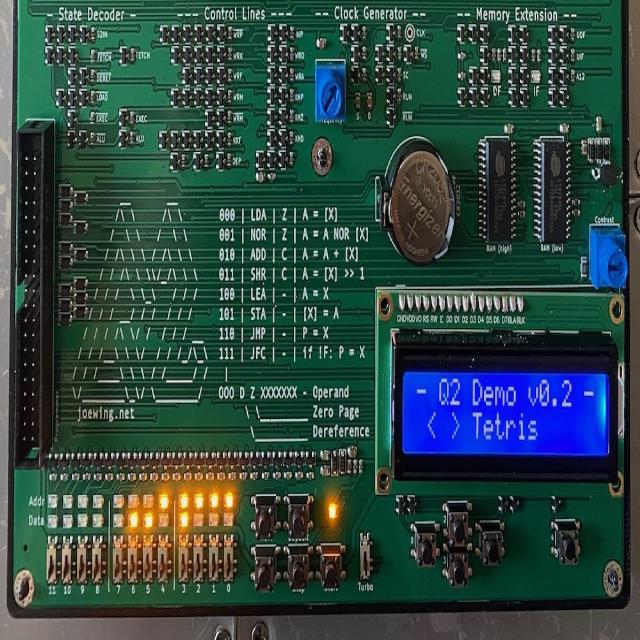2235: (479, 522, 508, 575), (554, 520, 579, 567), (253, 551, 278, 596), (318, 548, 342, 594), (446, 503, 470, 549), (253, 497, 277, 541), (412, 527, 438, 567), (287, 551, 311, 594), (445, 550, 471, 589), (288, 498, 310, 544), (206, 536, 220, 594), (359, 534, 374, 586), (157, 537, 170, 592), (75, 539, 89, 586), (192, 538, 205, 588), (127, 538, 139, 589), (111, 539, 123, 588), (178, 537, 189, 590), (223, 538, 235, 585), (142, 538, 154, 584), (46, 540, 57, 588), (90, 538, 101, 586), (61, 540, 70, 587)
4439: (249, 450, 261, 470), (404, 44, 413, 70), (237, 449, 249, 468), (43, 24, 54, 44), (266, 150, 276, 172), (520, 86, 529, 109), (304, 452, 316, 469), (104, 452, 115, 470), (149, 452, 160, 470), (92, 454, 104, 470), (136, 454, 148, 470), (79, 25, 89, 44), (387, 105, 396, 126), (293, 450, 304, 467), (205, 451, 215, 469), (225, 451, 235, 469), (272, 450, 282, 468), (279, 106, 287, 128), (119, 47, 128, 66), (548, 88, 558, 105), (82, 453, 92, 470), (194, 452, 204, 469), (216, 452, 226, 469), (68, 22, 76, 43), (261, 449, 269, 470), (268, 22, 276, 43), (559, 87, 568, 105), (339, 24, 348, 42), (57, 26, 65, 46), (56, 88, 64, 108), (126, 454, 136, 470), (172, 452, 182, 468), (282, 452, 292, 468), (79, 66, 87, 86), (172, 46, 180, 66), (279, 150, 287, 170), (559, 48, 568, 65), (469, 90, 478, 107), (508, 65, 516, 84), (60, 455, 70, 470), (160, 130, 167, 151), (280, 21, 287, 42), (387, 43, 394, 64), (510, 497, 518, 515), (508, 26, 516, 44), (548, 25, 556, 43), (458, 88, 466, 106), (115, 453, 124, 469), (160, 453, 169, 469), (183, 452, 192, 468), (206, 25, 214, 43), (387, 66, 395, 84), (397, 496, 404, 516), (352, 24, 359, 44), (520, 46, 528, 63), (520, 67, 528, 84), (182, 132, 190, 149), (267, 108, 275, 125), (71, 455, 80, 470), (57, 47, 64, 66), (171, 87, 178, 106), (217, 152, 224, 171), (268, 86, 275, 105), (68, 47, 76, 63), (68, 69, 76, 85), (500, 498, 508, 514), (552, 496, 560, 512), (509, 48, 517, 64), (549, 48, 557, 64), (470, 66, 478, 82), (560, 69, 568, 85), (508, 90, 516, 106), (172, 25, 180, 41), (205, 68, 213, 84), (268, 47, 276, 63), (374, 46, 382, 62), (469, 26, 476, 44), (482, 87, 489, 105), (49, 454, 58, 468), (80, 89, 87, 107), (195, 89, 201, 110), (217, 110, 224, 128), (194, 152, 201, 170), (280, 67, 287, 85), (267, 129, 274, 147), (257, 152, 264, 170), (352, 64, 359, 82), (68, 132, 76, 147), (520, 27, 528, 42), (280, 128, 286, 148), (481, 25, 488, 42), (560, 25, 567, 42), (195, 26, 202, 43), (195, 47, 202, 64), (218, 89, 225, 106), (170, 132, 177, 149), (194, 131, 201, 148), (280, 45, 287, 62), (268, 67, 275, 84), (280, 87, 287, 104), (352, 45, 359, 62), (46, 47, 52, 66), (80, 129, 86, 148), (184, 25, 190, 44), (68, 90, 75, 106), (458, 26, 465, 42), (481, 67, 488, 83), (160, 27, 167, 43), (218, 27, 225, 43), (217, 131, 224, 147), (171, 155, 178, 171), (120, 110, 126, 128), (120, 131, 126, 148), (184, 46, 190, 63), (183, 91, 189, 108), (206, 109, 212, 126), (206, 132, 212, 149), (376, 65, 382, 82), (388, 85, 394, 102), (550, 70, 557, 84), (217, 47, 224, 61), (409, 498, 415, 514), (482, 48, 488, 64), (206, 91, 212, 107), (184, 69, 190, 84), (218, 69, 224, 84), (388, 24, 393, 42), (69, 111, 74, 128), (196, 67, 201, 84), (206, 48, 212, 62)
IC: (480, 135, 516, 248), (535, 137, 568, 246)
LED: (47, 494, 58, 511), (329, 503, 340, 520), (158, 514, 170, 528), (63, 495, 74, 510), (114, 495, 125, 510), (224, 496, 235, 511), (194, 512, 205, 527), (62, 514, 72, 529), (208, 516, 220, 528), (48, 515, 58, 528), (78, 515, 88, 528), (144, 495, 154, 508), (130, 494, 139, 508), (160, 495, 169, 509), (180, 494, 189, 508), (210, 494, 219, 508), (179, 513, 188, 527), (78, 498, 88, 510), (93, 516, 103, 528), (129, 515, 138, 528), (224, 513, 233, 525), (145, 513, 153, 526), (114, 517, 124, 527), (532, 71, 541, 82), (94, 496, 102, 508), (492, 70, 500, 82), (195, 498, 204, 508)
battery: (376, 146, 460, 264)
capacitor 1V5: (354, 94, 361, 112), (367, 94, 372, 116), (596, 115, 602, 133), (322, 450, 330, 462), (348, 448, 357, 458), (255, 174, 264, 183), (505, 124, 513, 134), (560, 123, 568, 133), (316, 40, 324, 49), (322, 466, 329, 476), (583, 139, 587, 156)
connector -5v-: (12, 116, 49, 476)
diode -D1-: (59, 210, 72, 227), (59, 257, 72, 273), (75, 190, 87, 206), (74, 247, 86, 263), (74, 307, 88, 319), (75, 220, 86, 235), (59, 242, 72, 254), (58, 298, 71, 310), (60, 184, 71, 198), (74, 278, 86, 290), (75, 292, 87, 304), (58, 313, 71, 324), (61, 199, 72, 211), (59, 285, 71, 296), (604, 140, 610, 162), (341, 450, 346, 474), (589, 138, 594, 160), (597, 140, 602, 162), (333, 451, 337, 475)
display P5: (392, 330, 619, 483)
potentiometer POT1: (590, 222, 632, 294), (314, 61, 347, 125)
resistor IR1: (581, 259, 588, 278), (90, 70, 97, 87), (194, 472, 203, 484), (204, 156, 211, 171), (295, 472, 305, 482), (129, 48, 135, 64), (91, 26, 96, 45), (261, 472, 270, 482), (90, 48, 96, 63), (82, 472, 90, 483), (162, 471, 170, 482), (353, 461, 358, 478), (227, 111, 233, 125), (517, 211, 525, 221), (359, 459, 364, 475), (105, 474, 113, 484), (150, 474, 158, 484), (173, 473, 181, 483), (307, 472, 315, 482), (129, 131, 134, 147), (397, 86, 402, 102), (227, 25, 233, 38), (226, 154, 232, 167), (180, 157, 186, 170), (49, 471, 56, 482), (290, 150, 295, 165), (574, 207, 582, 216), (458, 52, 467, 60), (117, 473, 125, 482), (128, 473, 136, 482), (184, 472, 192, 481), (283, 473, 291, 482), (361, 68, 367, 80), (267, 173, 276, 181), (89, 112, 95, 124), (226, 90, 232, 102), (289, 26, 294, 40), (289, 48, 294, 61), (290, 110, 295, 123), (458, 70, 466, 78), (94, 474, 102, 482), (398, 47, 402, 63), (140, 473, 147, 482), (207, 472, 214, 481), (571, 67, 575, 82), (537, 50, 542, 62), (362, 26, 366, 41), (414, 47, 419, 59), (226, 71, 231, 83), (398, 65, 402, 80), (573, 197, 580, 205), (532, 49, 536, 63), (60, 475, 68, 482), (72, 474, 79, 482), (218, 473, 225, 481), (250, 472, 257, 480), (91, 132, 95, 146), (228, 130, 232, 144), (228, 49, 233, 60), (518, 199, 524, 208), (492, 50, 496, 63), (348, 460, 352, 473), (290, 90, 294, 103), (130, 110, 134, 123), (398, 25, 401, 42), (571, 48, 575, 60), (240, 472, 246, 480), (274, 473, 280, 481), (290, 70, 294, 82), (571, 29, 575, 40), (362, 47, 366, 58), (498, 50, 502, 60), (503, 50, 507, 60), (290, 132, 294, 142), (90, 91, 94, 101), (229, 474, 236, 479)
